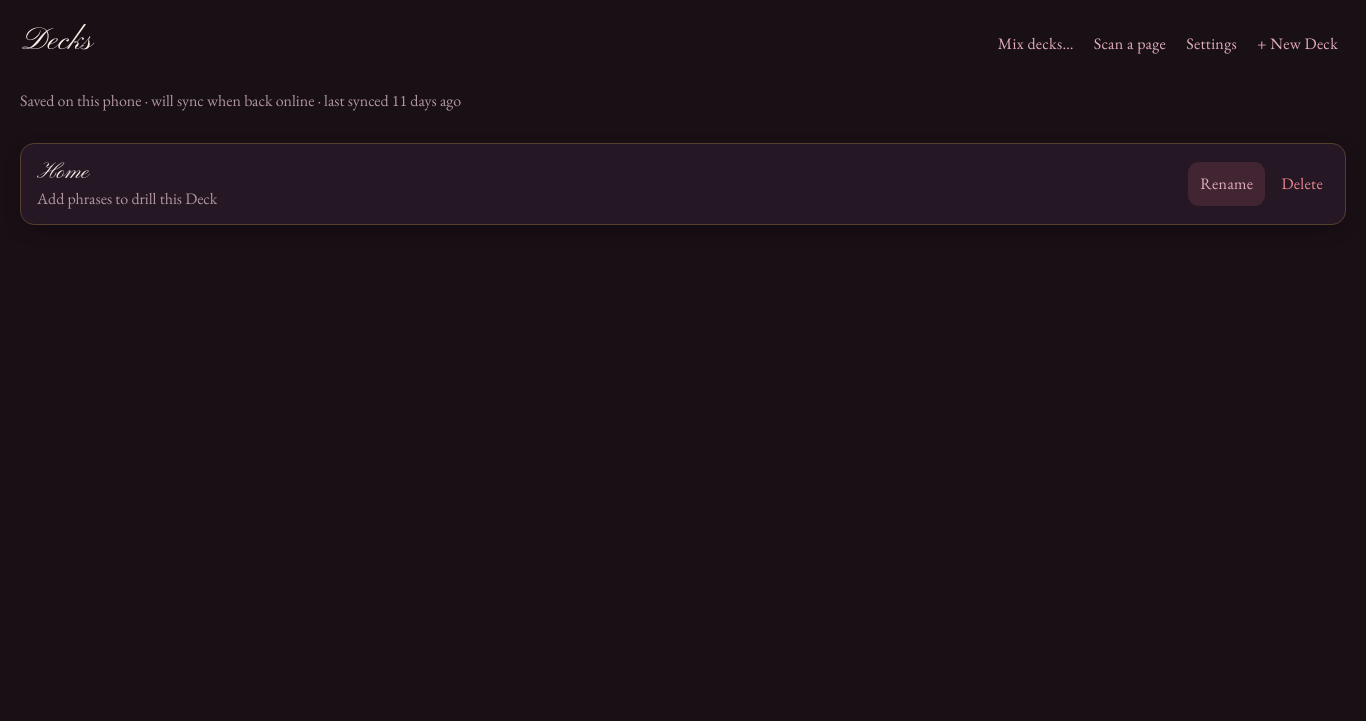
App wired to the backup age (T031) › states the age in Settings from the last successful sync
Click the button with test id "open-settings": coordinates (1212, 43) [1178,21,1245,65]
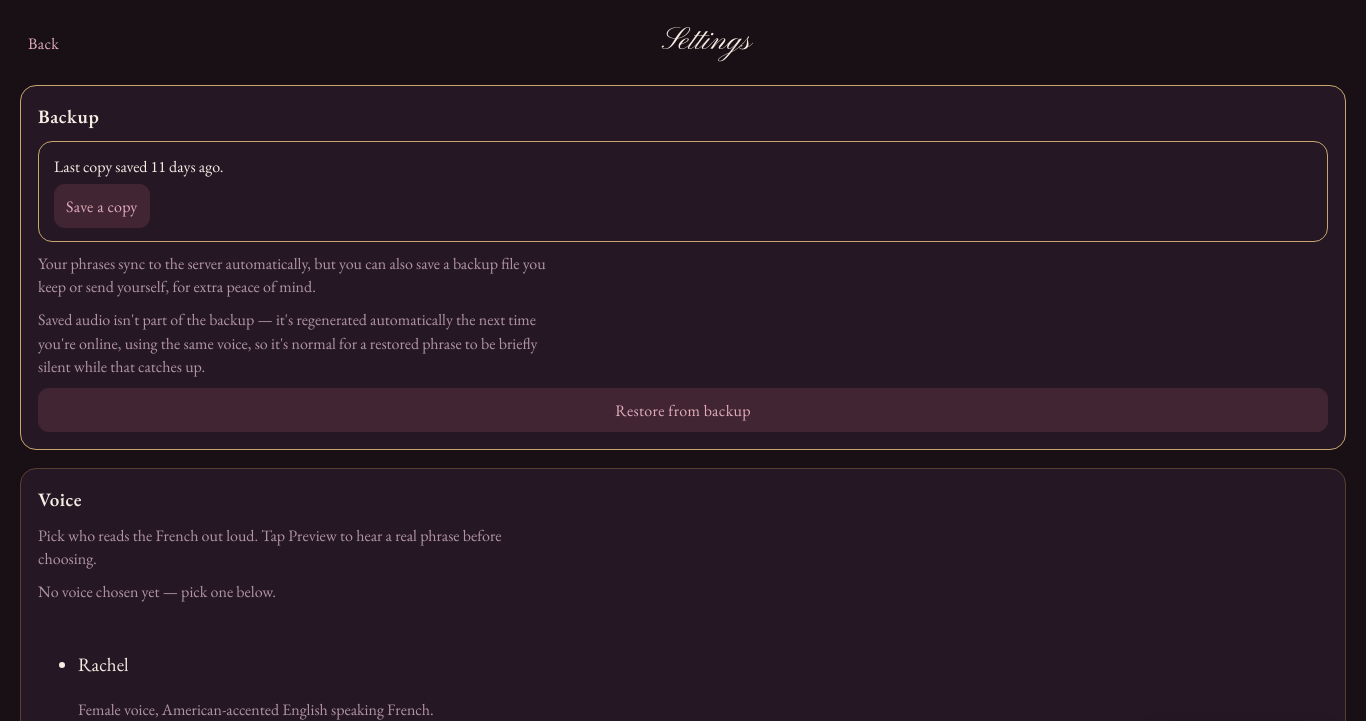
expect the element with test id "backup-status" shows "11 days ago": met, box [54,156,223,177]
